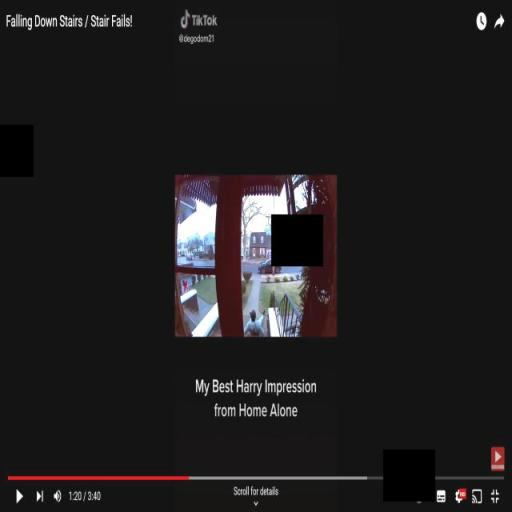Fall: (242, 307, 268, 338)
